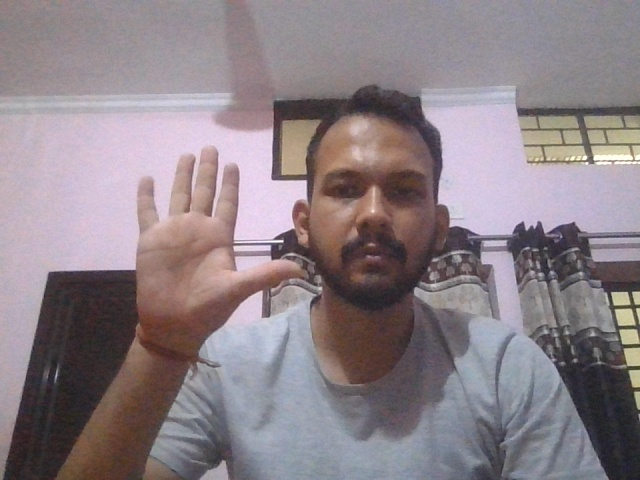hello: (136, 145, 301, 342)
